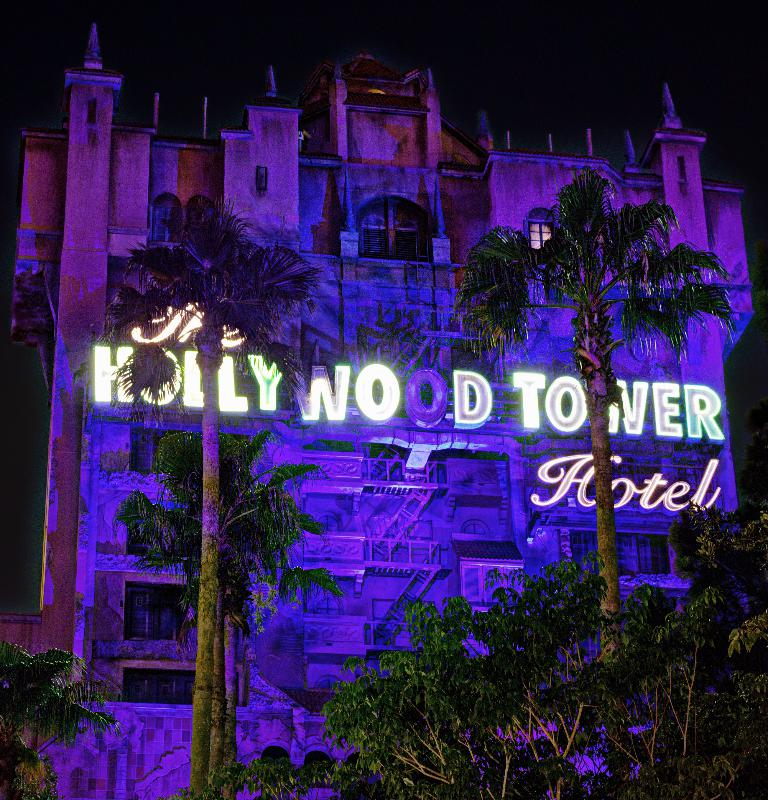Tree: (168, 503, 768, 800), (451, 166, 736, 779), (91, 191, 345, 800), (0, 633, 120, 800)
